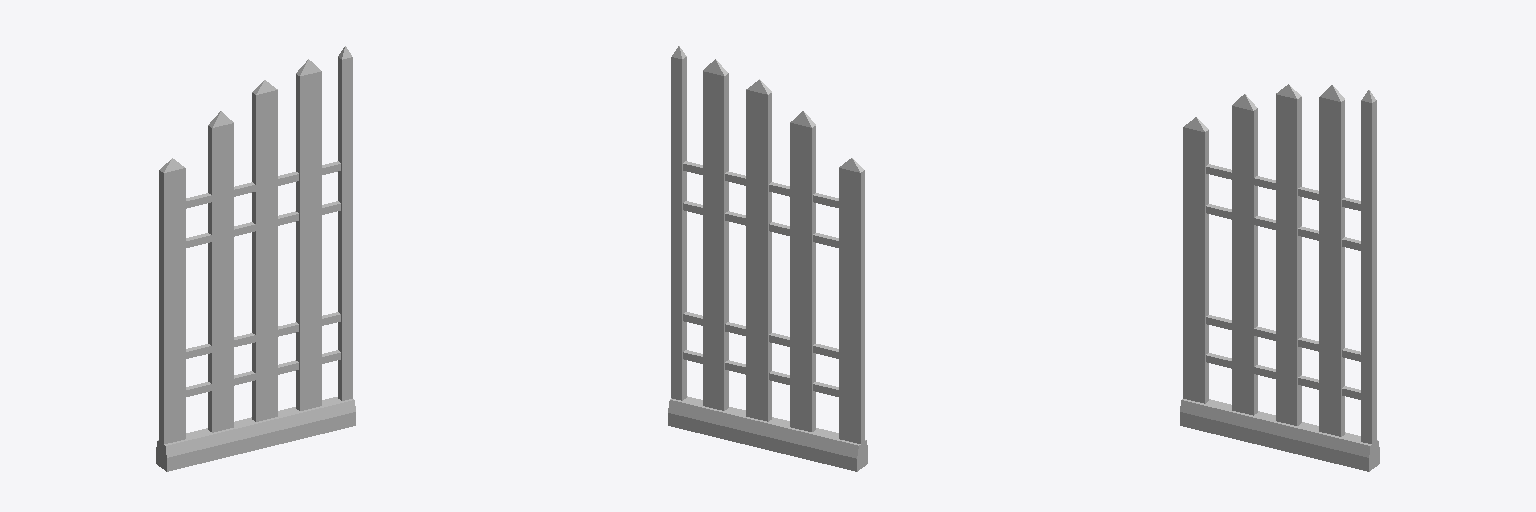
Rendered from gate_door.obj.
3 renders of one model, left to right at view 1: azimuth 30°, elevation 25°; view 2: azimuth 150°, elevation 25°; view 3: azimuth 330°, elevation 25°, orthographic.
Parts seen in each view (by area): view 1: FenceLoop.002; view 2: FenceLoop.002; view 3: FenceLoop.002.
Part boxes in pixels (x1,y1,x2,y2): FenceLoop.002: (156,46,355,471); FenceLoop.002: (668,46,867,471); FenceLoop.002: (1180,84,1379,471).
Bounding box in the file's own units: 0.8079 × 1.54 × 0.0826.